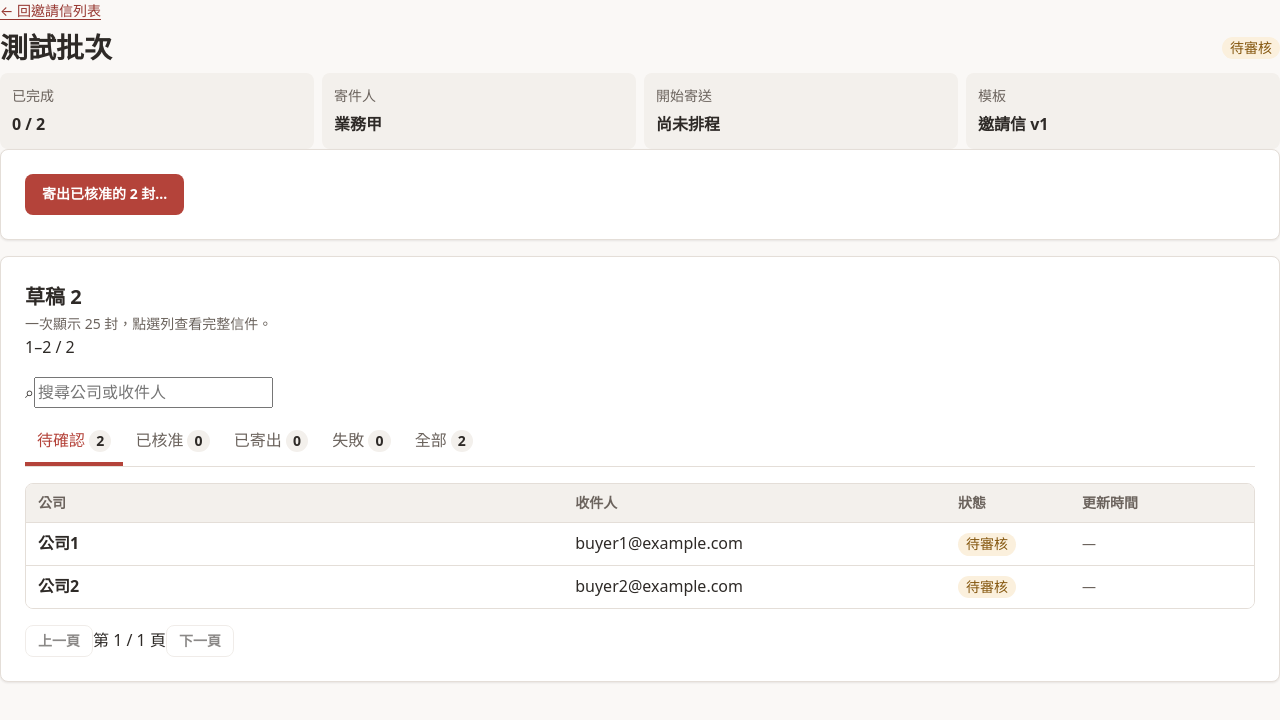
M2-05 預覽佇列 › test_f_mail_6_send_confirm_dialog：寄出要在對話框再確認，沒填時間就立即寄
Click the button "寄出已核准的 2 封…" at (105, 195), box [25, 174, 184, 215]
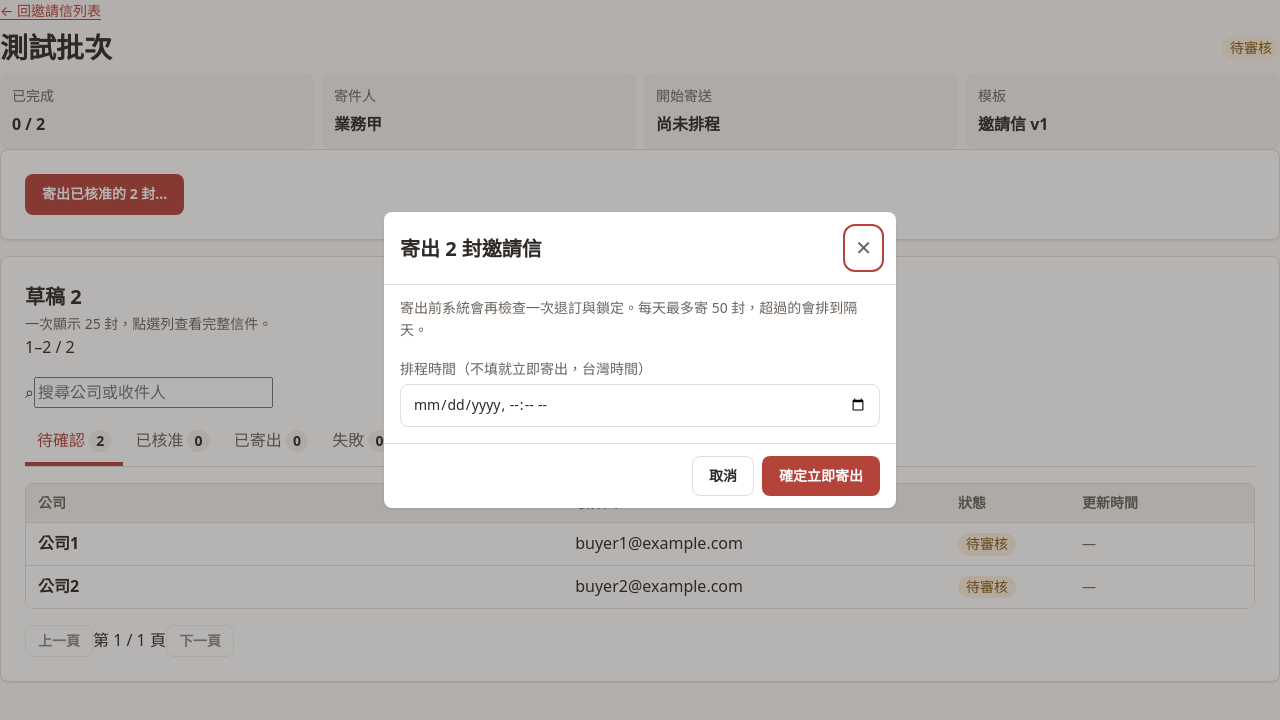
Click the button "確定立即寄出" at (821, 476), box [762, 456, 880, 496]
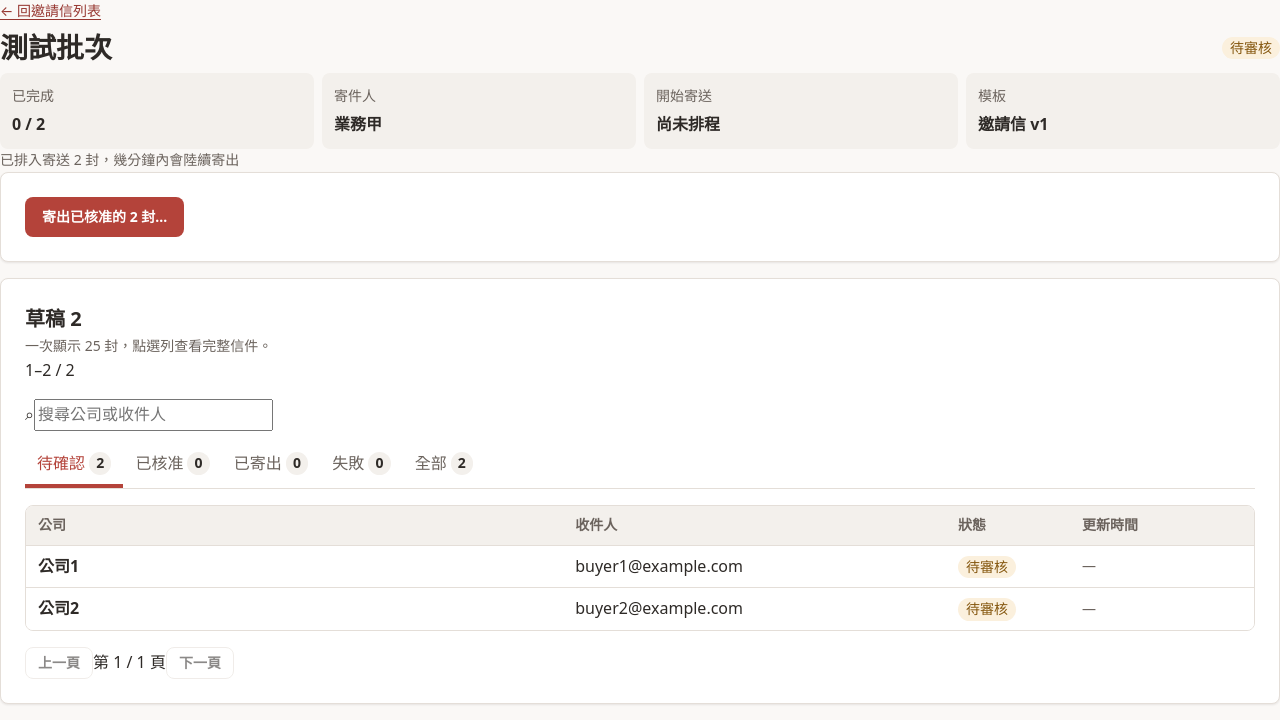
Now the text "已排入寄送 2 封，幾分鐘內會陸續寄出" is shown, box [0, 150, 239, 169]
